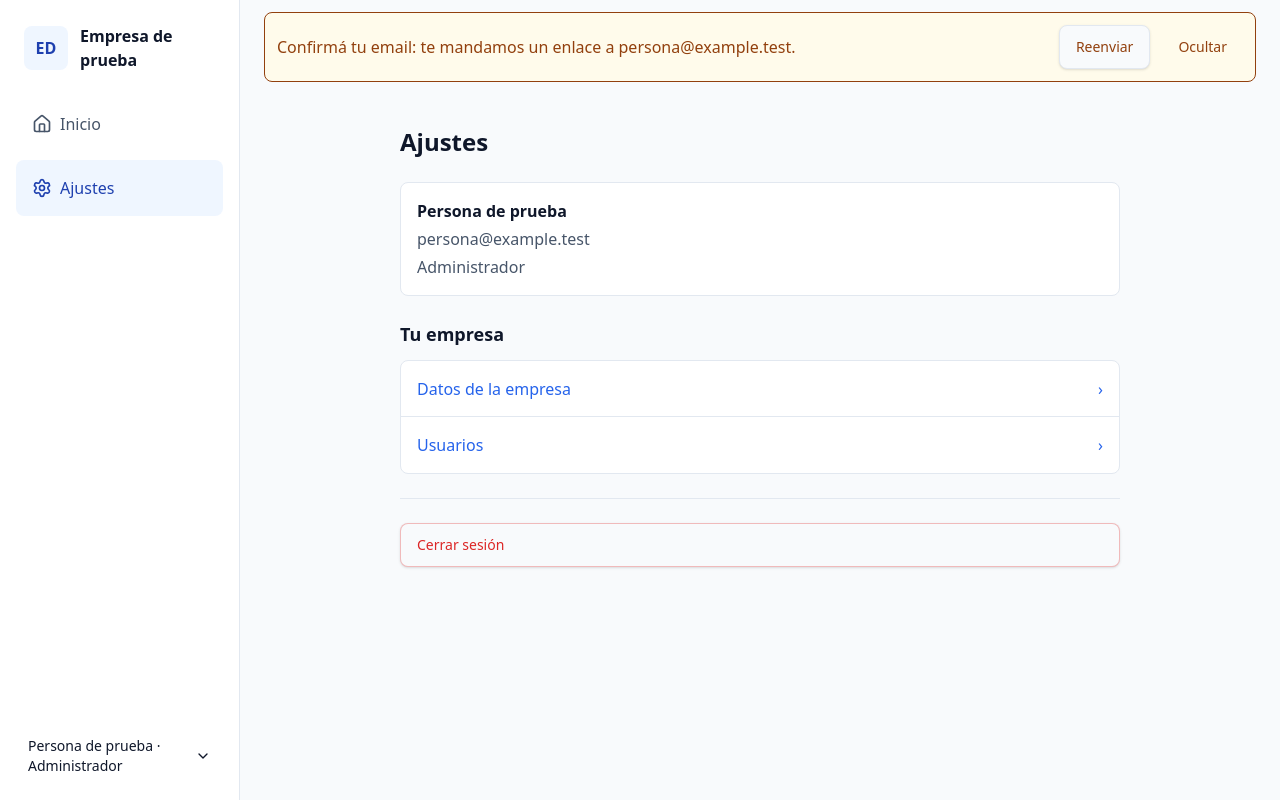
logout navigation › stays in Settings and keeps session after logout loses network
Expected: the heading "Ajustes" is shown, [400,126,488,158]
Click the button "Cerrar sesión" at x=461, y=544, box [400,523,1120,567]
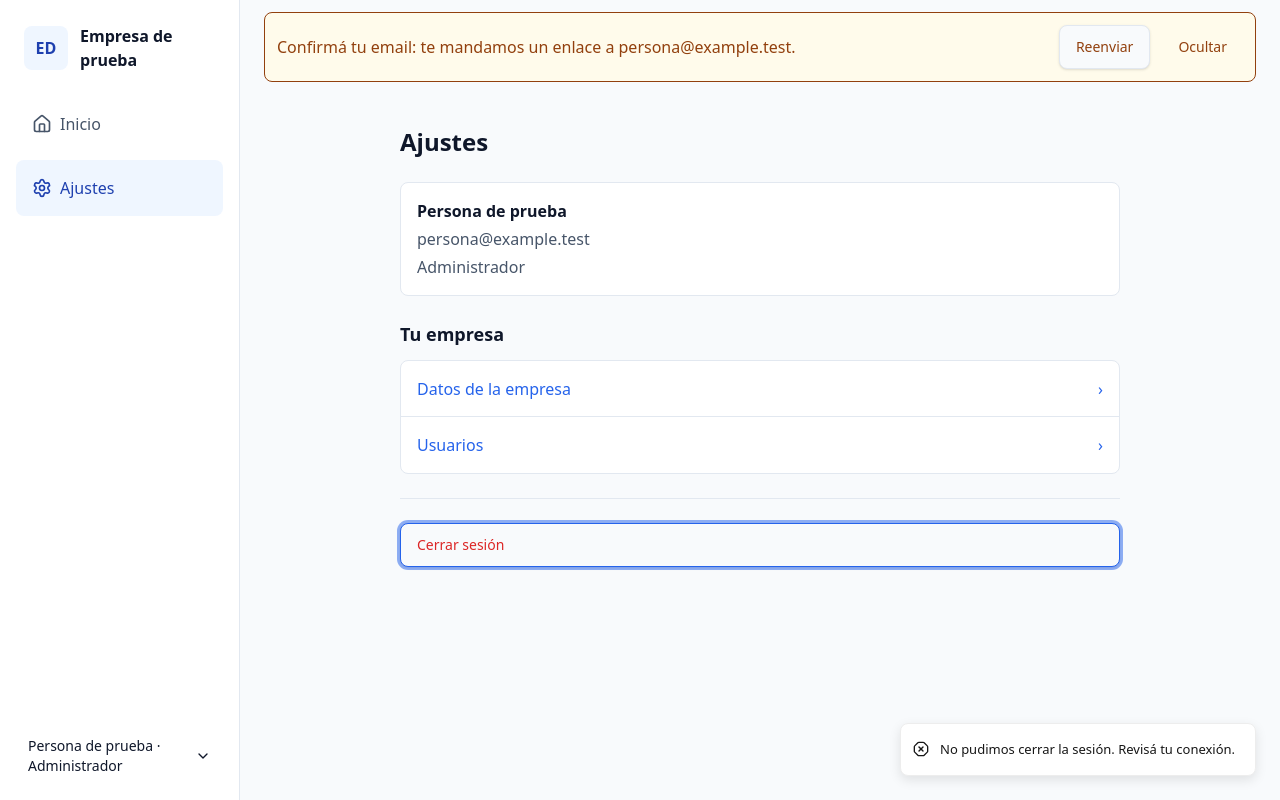
Result: the text "No pudimos cerrar la sesión. Revisá tu conexión." is shown at [940,740,1235,759]
